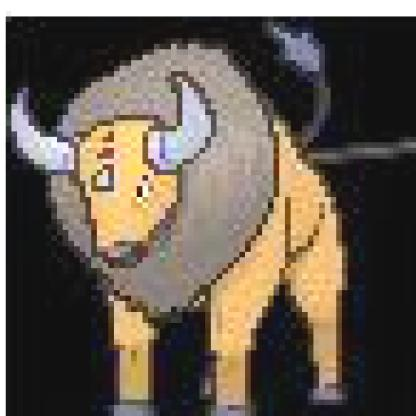Tauros: (0, 0, 411, 411)
